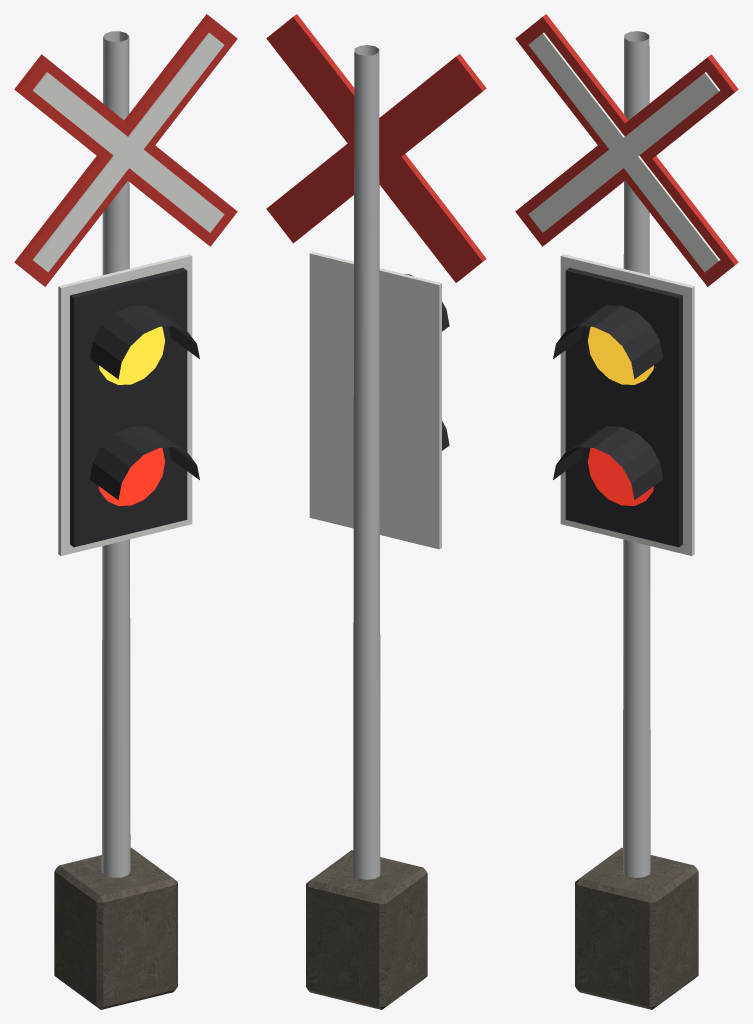
Rendered from crossing-signal.glb.
The picture shows the model from 3 angles, left to right: view 1: azimuth 30°, elevation 25°; view 2: azimuth 150°, elevation 25°; view 3: azimuth 330°, elevation 25°; orthographic projection.
Visible parts, largest first — view 1: crossing-signal-0; view 2: crossing-signal-0; view 3: crossing-signal-0.
Part boxes in pixels (x1,y1,x2,y2): crossing-signal-0: (14,14,237,1009); crossing-signal-0: (266,14,486,1009); crossing-signal-0: (515,14,738,1009).
Bounding box in the file's own units: 0.9687 × 4.03 × 0.5097.
Materials: 8 (1 with a texture image).
